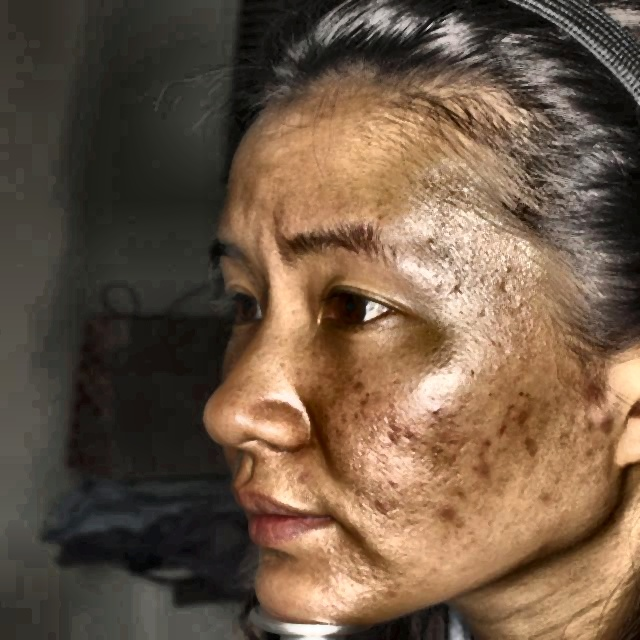comedone: (593, 404, 616, 442), (582, 374, 613, 400), (472, 455, 491, 481), (374, 493, 393, 515), (440, 494, 454, 518)
